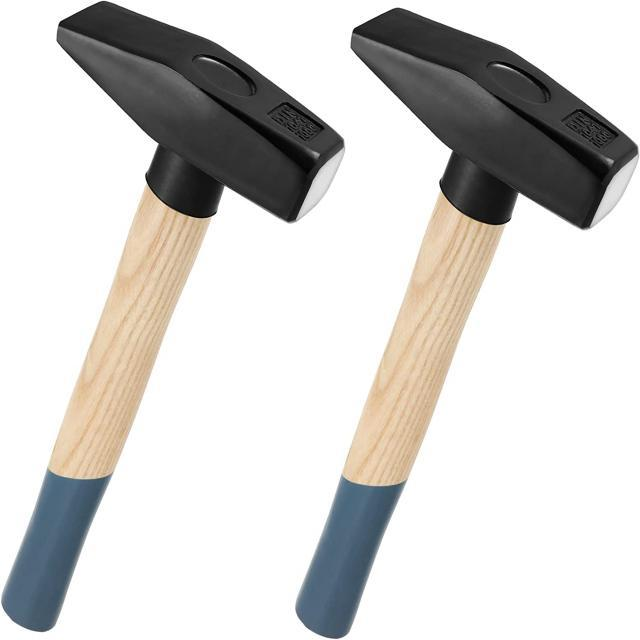hammer: (285, 0, 640, 640), (0, 0, 355, 637)
